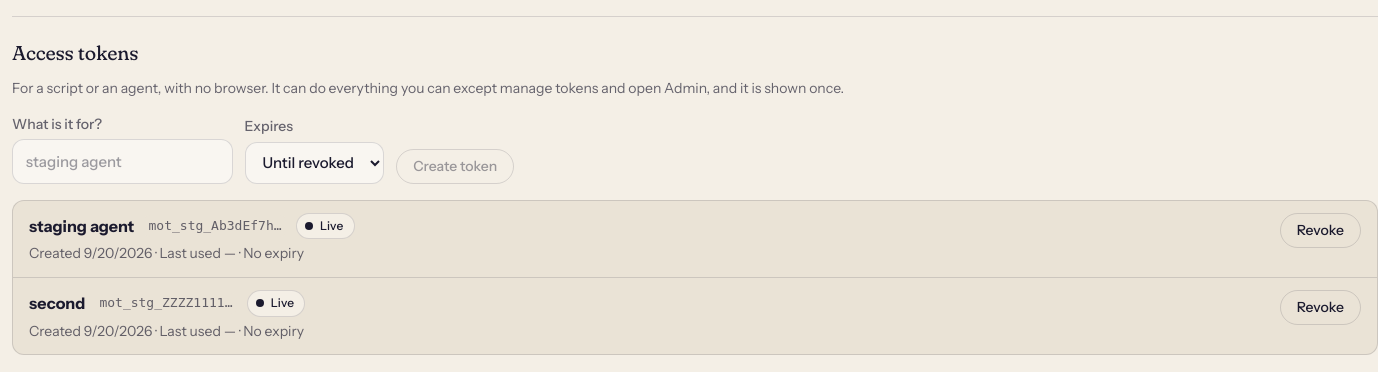
AccessTokens › keeps a token minted while a revoke was in flight
Click the button "Revoke" in the row of "staging agent": (1320,230) [1280,213,1361,248]
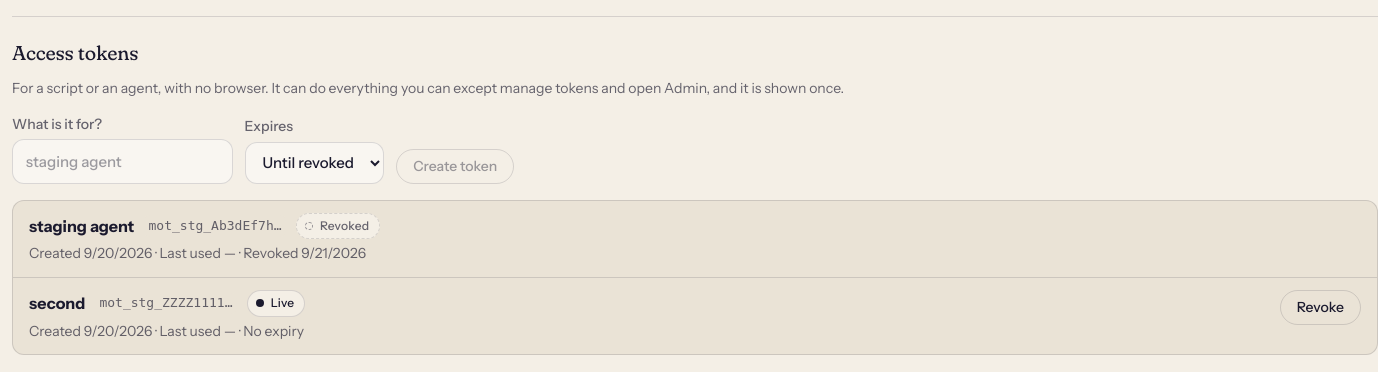
Expected: the text "second" is shown, [29,291,85,316]
Expected: the text "Revoked" is shown, [296,213,380,239]
